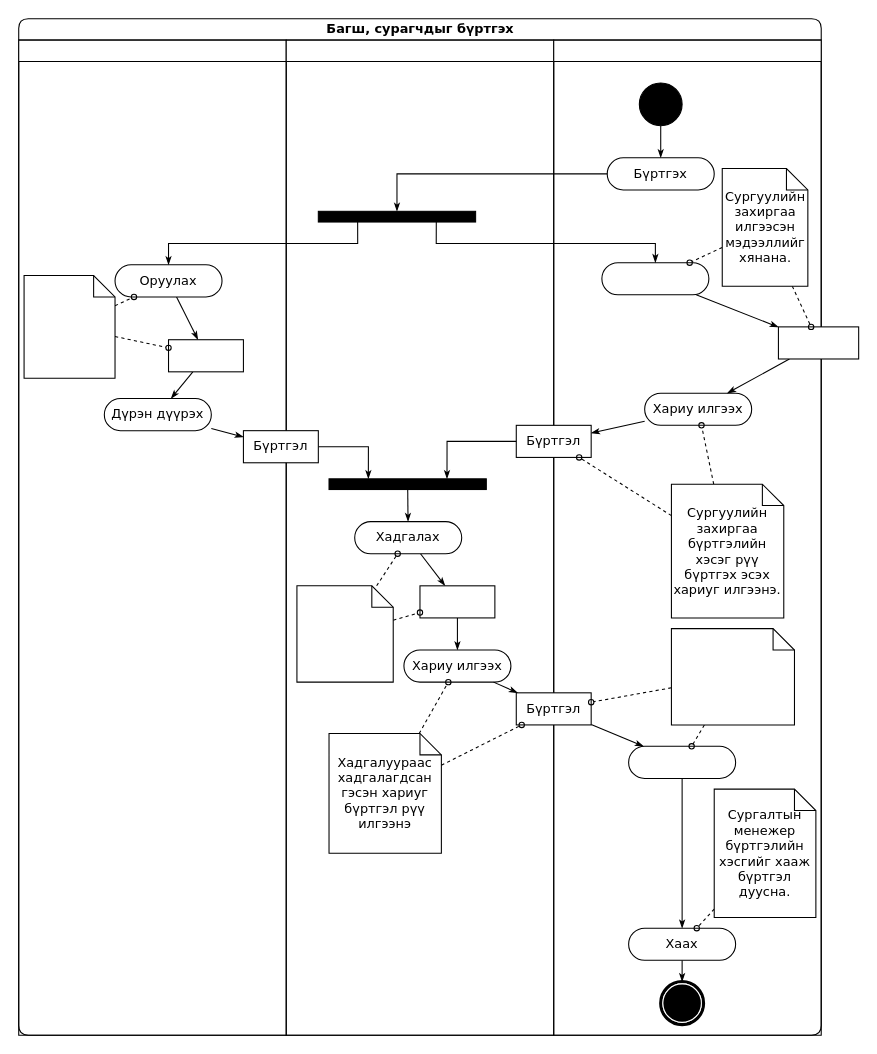
This 877x1054 diagram has some shape labels left out. Here are the shapes that lost their labels. From the top down, the centre of each, then its label:
At point (655, 278): "Илгээх".
At point (69, 326): "Бүтртгэлийн хэсгийн анкетад мэдээллийг оруулна.".
At point (818, 342): "Сургуулийн захиргаа".
At point (205, 355): "Анкет".
At point (457, 601): "Хадгалуур".
At point (344, 633): "Бүртгэл хэсгээс ирсэн өгөгдлийг хадгалж авна.".
At point (732, 676): "Бүртгэл анкет бөглөх хэсгийг цэвэрлэнэ.".
At point (682, 761): "Цэвэрлэх".
